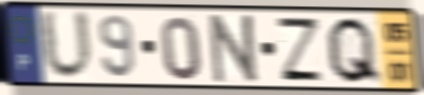0: (158, 12, 205, 83)
9: (98, 13, 137, 80)
N: (208, 12, 263, 86)
Q: (324, 15, 385, 87)
U: (37, 8, 96, 84)
Z: (273, 15, 327, 84)
